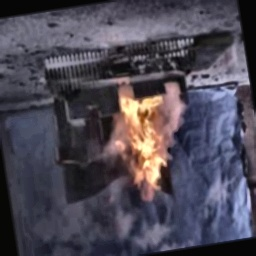fire: (108, 86, 192, 208)
